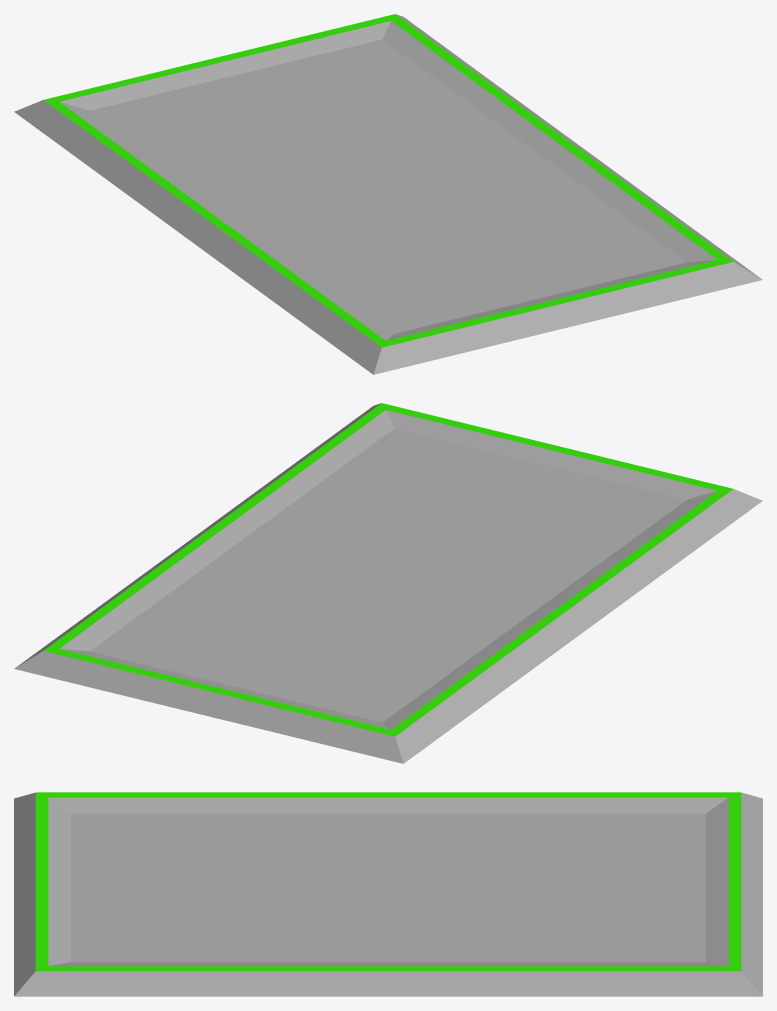
File: startPad.fbx
3 renders of one model, top to bottom at view 1: azimuth 30°, elevation 25°; view 2: azimuth 150°, elevation 25°; view 3: azimuth 270°, elevation 25°, orthographic. The views are drawn at different scales.
Parts seen in each view (by area): view 1: startPad; view 2: startPad; view 3: startPad.
Part boxes in pixels (left/top/right/bottom): startPad: left=14, top=14, right=762, bottom=374; startPad: left=14, top=403, right=762, bottom=763; startPad: left=14, top=792, right=762, bottom=996.
Size of the model in its own units: 0.0332 by 0.00122 by 0.0531.
